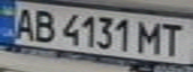1: (112, 16, 136, 52), (78, 12, 96, 48)
3: (93, 13, 115, 51)
4: (57, 11, 81, 46)
A: (9, 4, 39, 40)
B: (30, 7, 57, 43)
M: (136, 18, 166, 55)
T: (157, 20, 187, 56)
